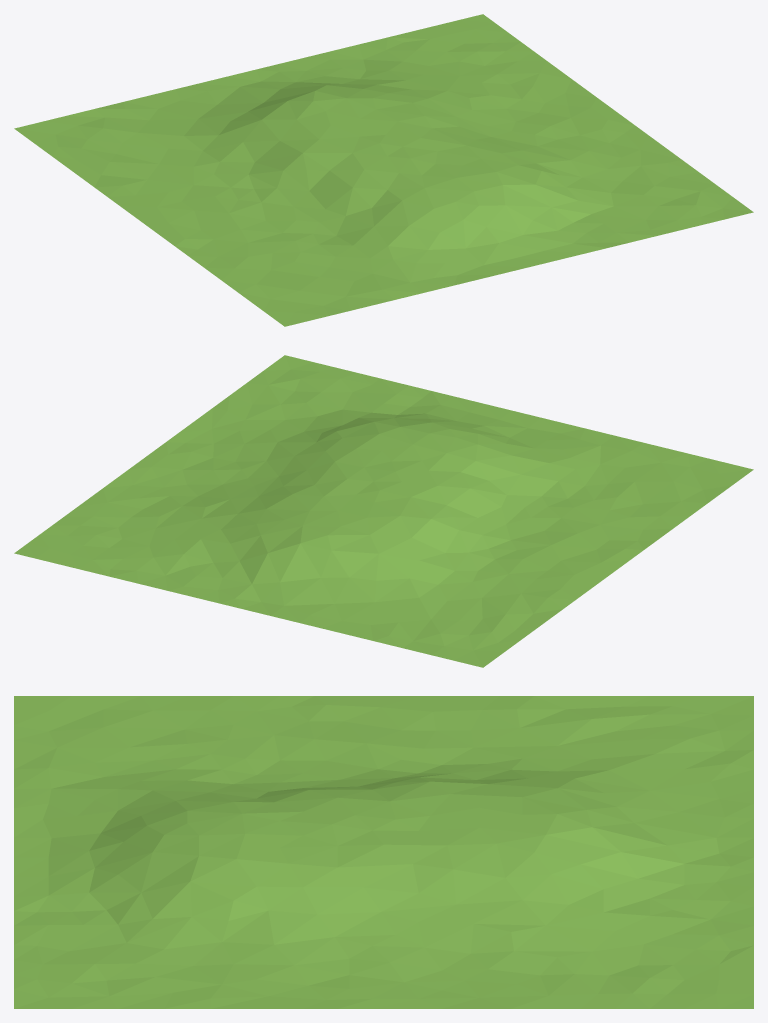
Rendered from MT_Terrain_M_a_18_LOD.fbx.
3 renders of one model, top to bottom at view 1: azimuth 30°, elevation 25°; view 2: azimuth 150°, elevation 25°; view 3: azimuth 270°, elevation 25°, orthographic. The views are drawn at different scales.
Visible parts, largest first — view 1: MT_Terrain_M_a_18_LOD0; view 2: MT_Terrain_M_a_18_LOD0; view 3: MT_Terrain_M_a_18_LOD0.
Boxes of the visible parts, x1,y1,x2,y2 form: MT_Terrain_M_a_18_LOD0: (14,14,753,326); MT_Terrain_M_a_18_LOD0: (14,355,753,667); MT_Terrain_M_a_18_LOD0: (14,696,753,1008).
Size of what is drawn, in the model's own units: 5000 by 258 by 5000.
